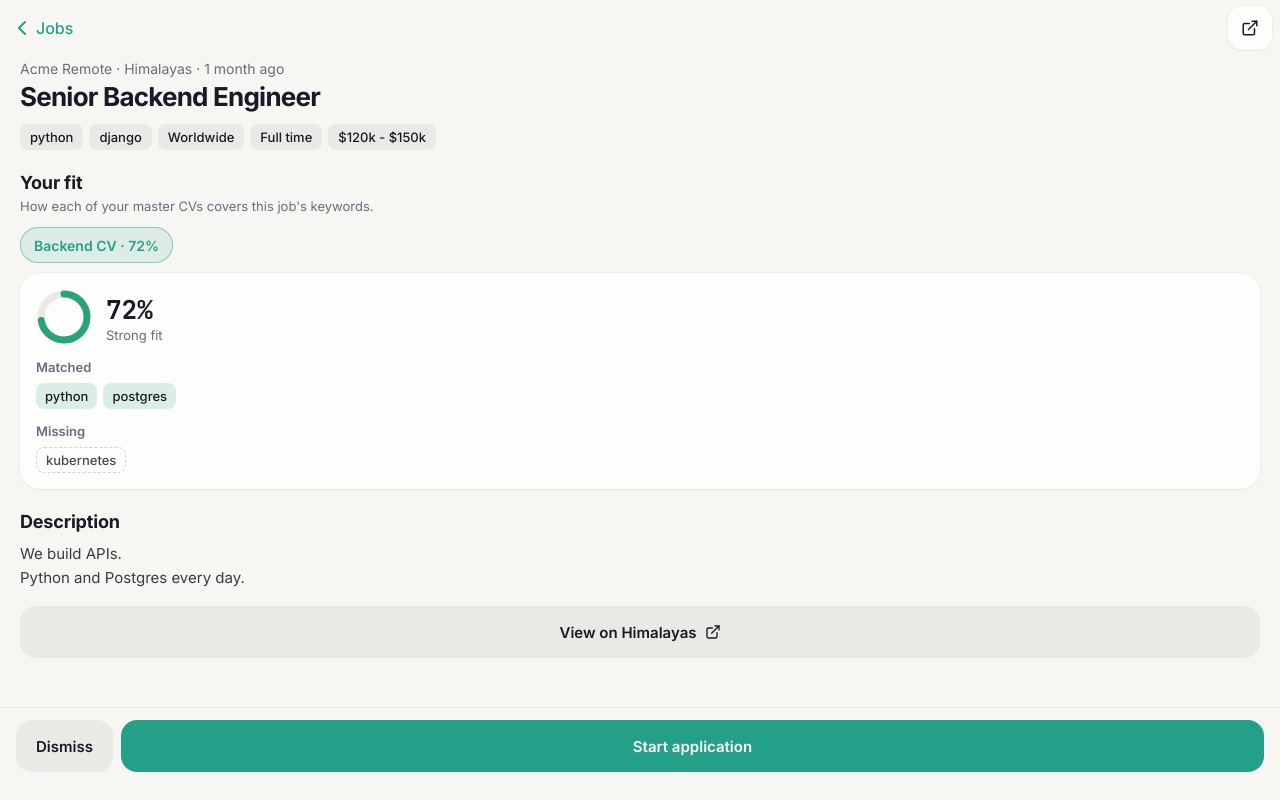
a job below md › shows a 404/422 detail inline, and Cancel closes the sheet
Click the button "Start application".
click(692, 746)  # box [121,720,1264,772]
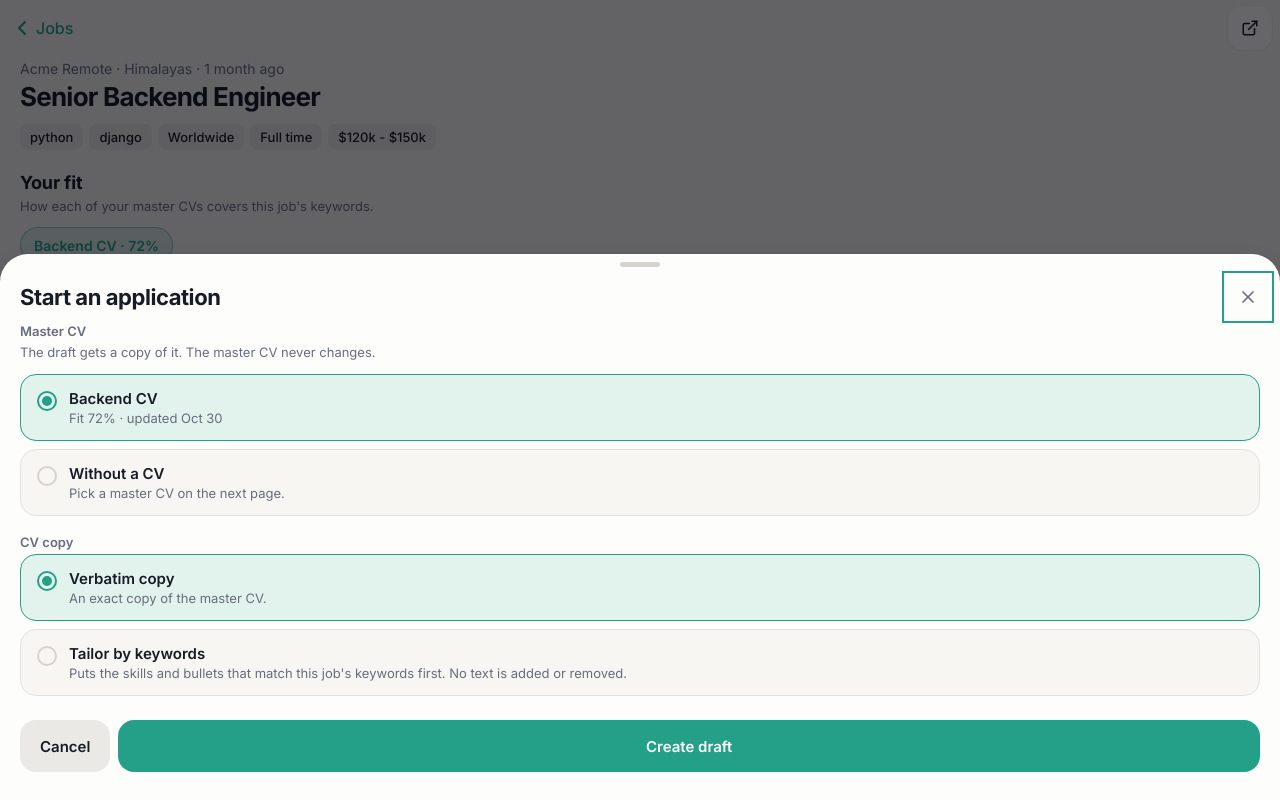
Click the button "Create draft".
click(689, 746)  # box [118,720,1260,772]
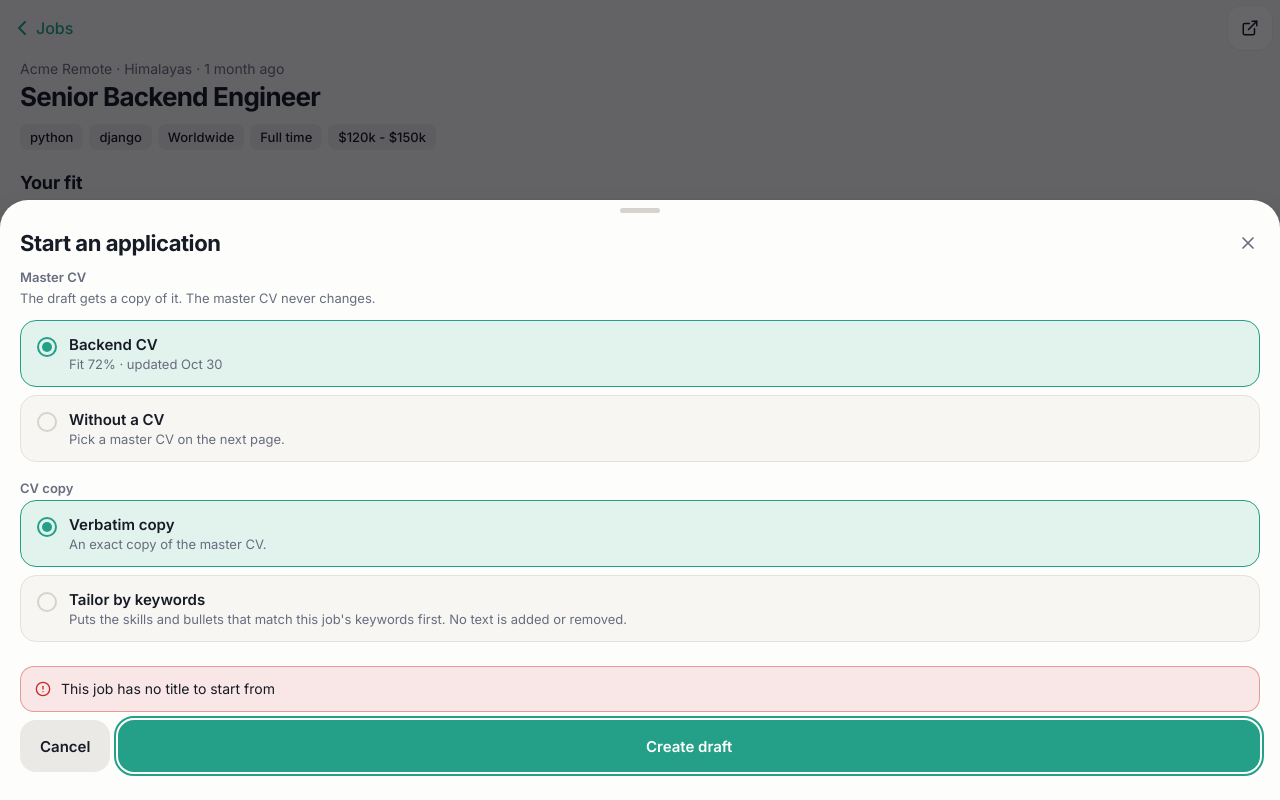
Expected: the text "This job has no title to start from" is shown, [61,680,275,697]
Click the button "Cancel".
click(65, 746)  # box [20,720,110,772]
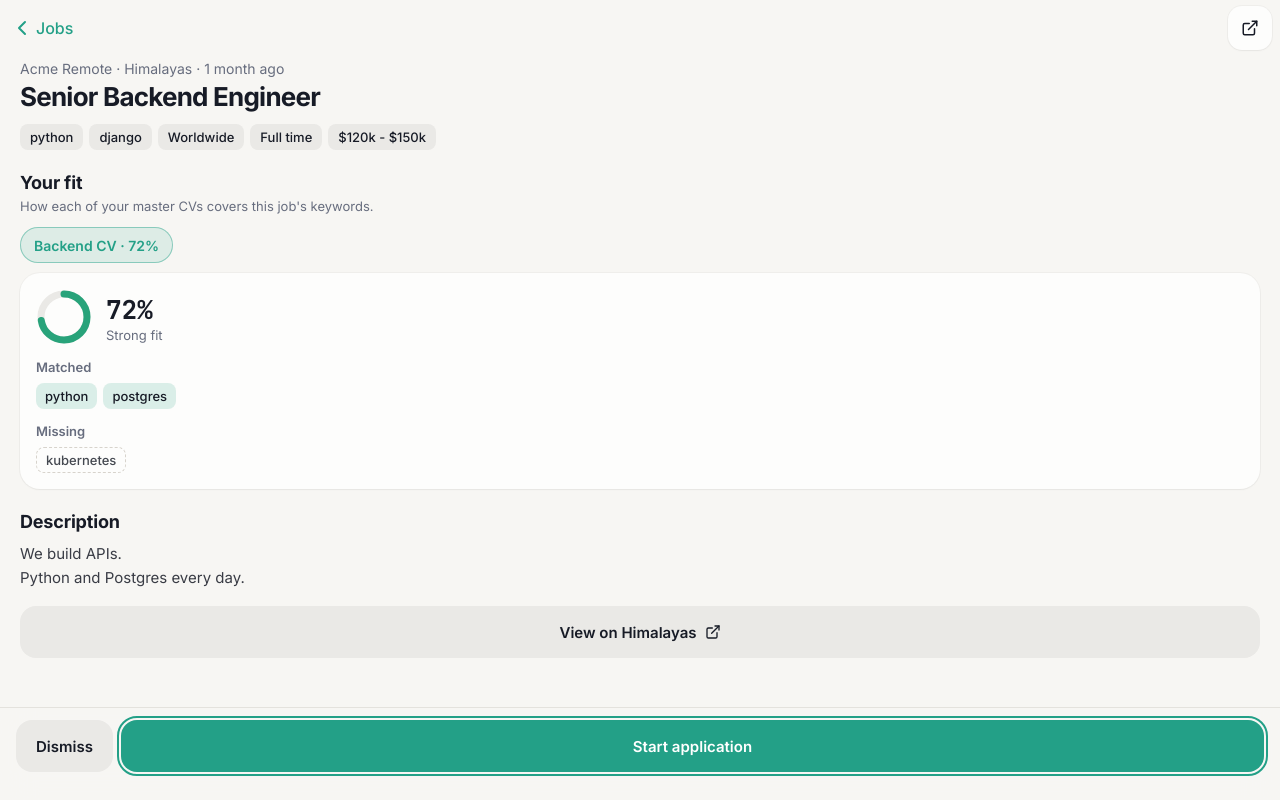
Expected: the dialog is gone
